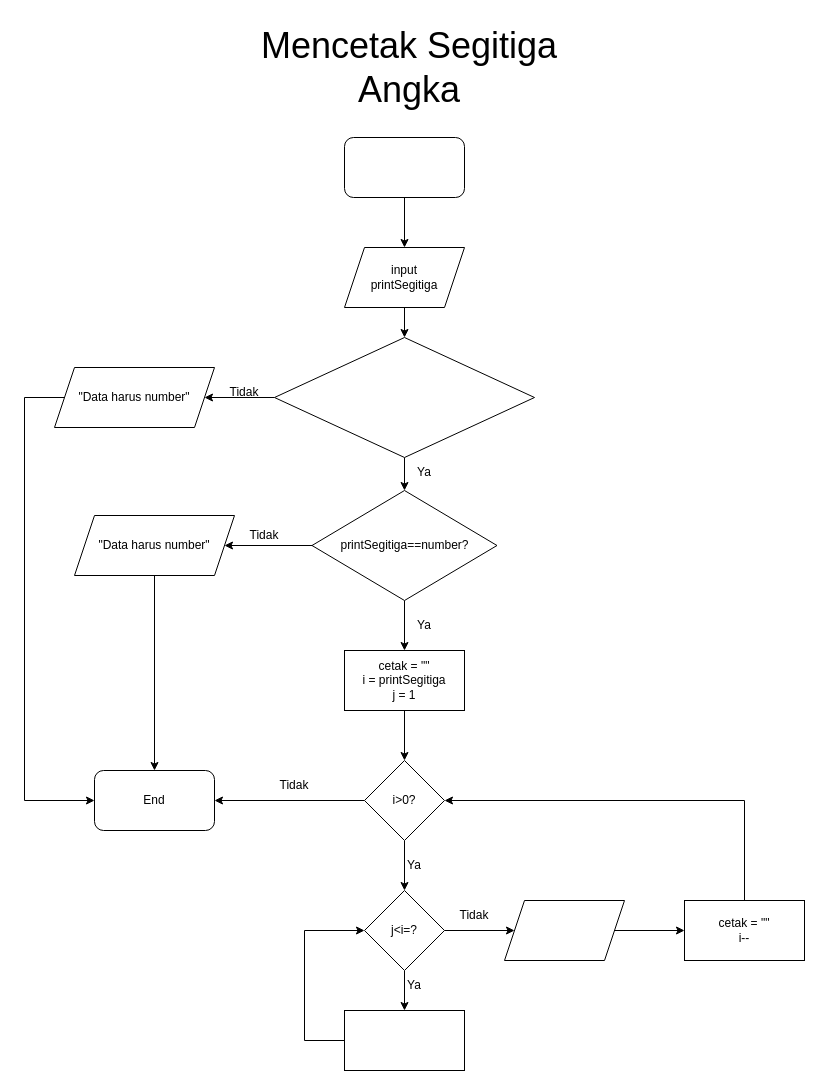
Image size: 822x1088. Some labels were removed from this diagram. Each missing label, with the centre of its shape:
"cetak": (564,930)
cetak += j + " " j++: (404,1040)
printSegitiga! == null && printSegitiga !== undefined: (404,397)
Start: (404,167)
